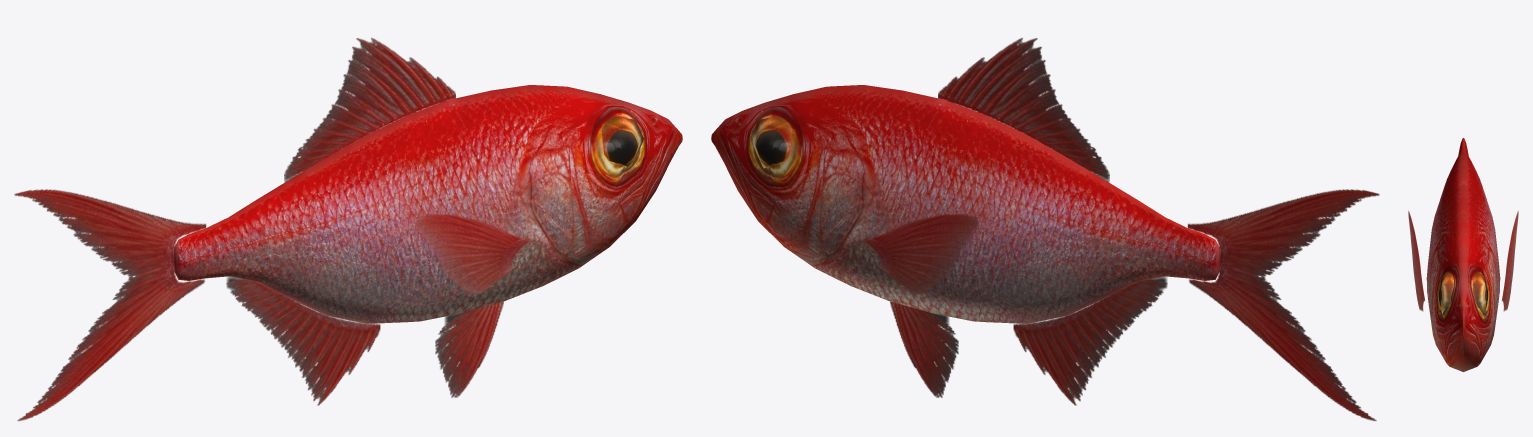
Rendered from kinmedai_lo.glb.
3 renders of one model, left to right at view 1: azimuth 30°, elevation 25°; view 2: azimuth 150°, elevation 25°; view 3: azimuth 270°, elevation 25°, orthographic. The views are drawn at different scales.
Parts seen in each view (by area): view 1: kinmedai; view 2: kinmedai; view 3: kinmedai.
Boxes of the visible parts, left/top/right/bottom form: kinmedai: left=14, top=38, right=682, bottom=420; kinmedai: left=711, top=38, right=1379, bottom=420; kinmedai: left=1408, top=138, right=1518, bottom=371.
Size of the model in its own units: 0.3505 by 0.1925 by 0.0677.
Materials: 1 (1 with a texture image).
